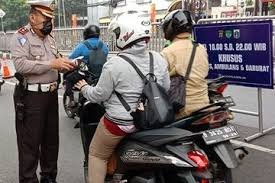motor: (73, 105, 207, 183)
